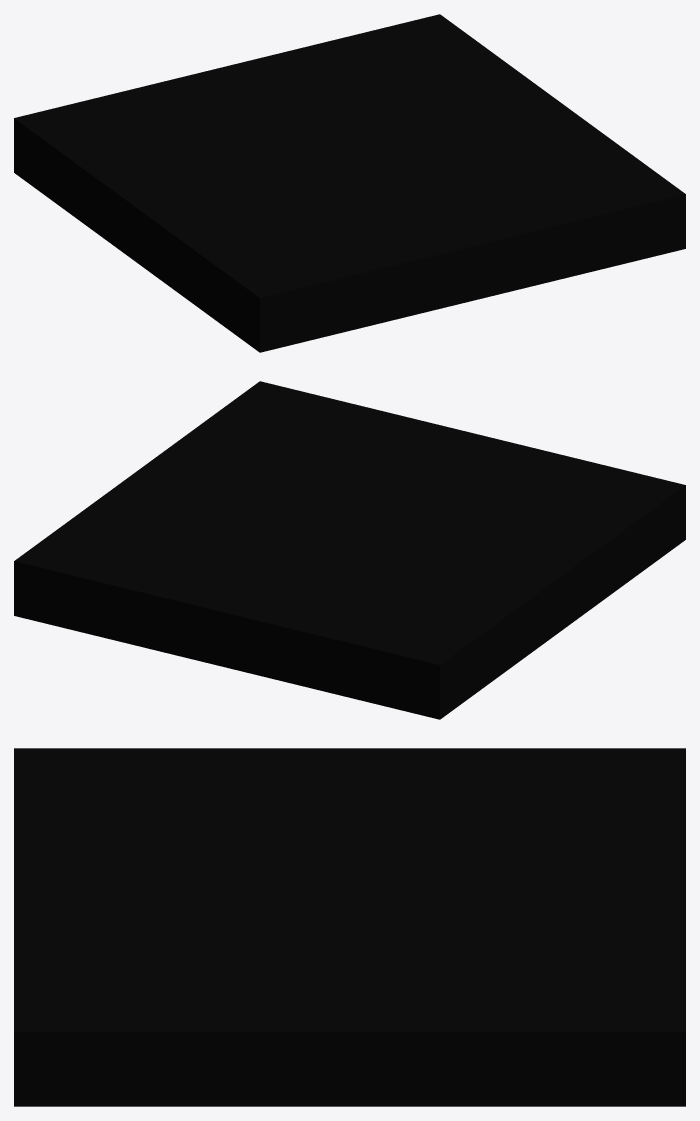
File: raito.fbx
The picture shows the model from 3 angles, top to bottom: view 1: azimuth 30°, elevation 25°; view 2: azimuth 150°, elevation 25°; view 3: azimuth 270°, elevation 25°; orthographic projection. The views are drawn at different scales.
Visible parts, largest first — view 1: pCube1; view 2: pCube1; view 3: pCube1.
Part boxes in pixels (bbox=[...]): pCube1: bbox=[14, 14, 685, 352]; pCube1: bbox=[14, 381, 685, 719]; pCube1: bbox=[14, 748, 685, 1106].
Size of the model in its own units: 23.5 by 2.88 by 23.5.
1 material, 1 textured.
